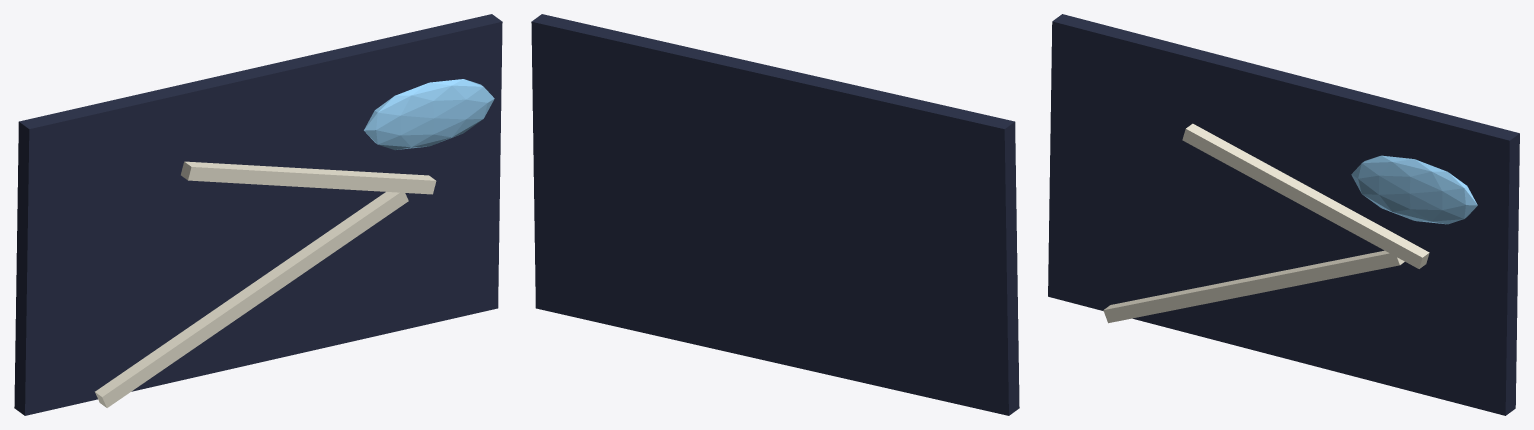
File: 01_weathering_wear_overlay_1.glb
3 renders of one model, left to right at view 1: azimuth 30°, elevation 25°; view 2: azimuth 150°, elevation 25°; view 3: azimuth 330°, elevation 25°, orthographic. The views are drawn at different scales.
Parts seen in each view (by area): view 1: wear_plate, scratch_a, rust_or_moss_spot, scratch_b; view 2: wear_plate; view 3: wear_plate, rust_or_moss_spot, scratch_b, scratch_a.
Part boxes in pixels (x1,y1,x2,y2): wear_plate: (14,14,502,415); scratch_a: (95,192,408,407); rust_or_moss_spot: (364,79,494,149); scratch_b: (181,161,436,194); wear_plate: (531,14,1019,415); wear_plate: (1048,14,1519,415); rust_or_moss_spot: (1351,155,1477,224); scratch_b: (1182,123,1429,268); scratch_a: (1103,250,1404,323).
Size of the model in its own units: 1.31 by 0.7706 by 0.134.
